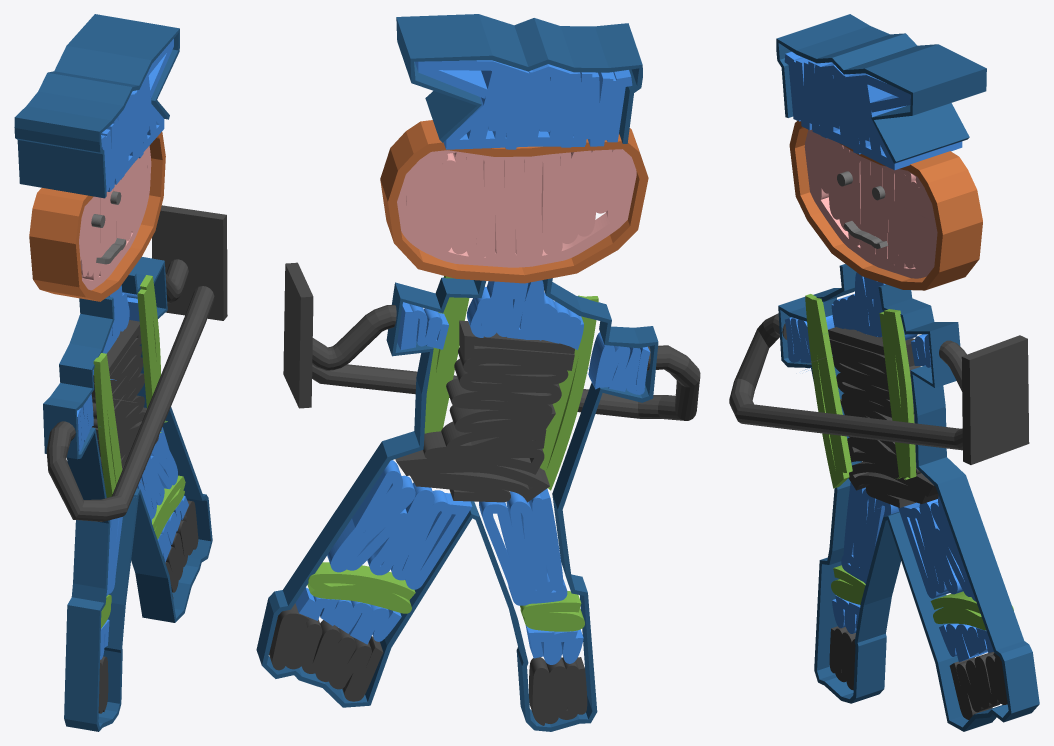
3 views of the same model, side by side, from view 1: azimuth 30°, elevation 25°; view 2: azimuth 150°, elevation 25°; view 3: azimuth 270°, elevation 25° (orthographic). The views are drawn at different scales.
Visible parts, largest first — view 1: 14; view 2: 14; view 3: 14.
Part boxes in pixels (x1,y1,x2,y2): 14: (14,14,227,731); 14: (256,14,700,731); 14: (729,14,1039,731).
Bounding box in the file's own units: 0.2683 × 0.5768 × 0.2463.
